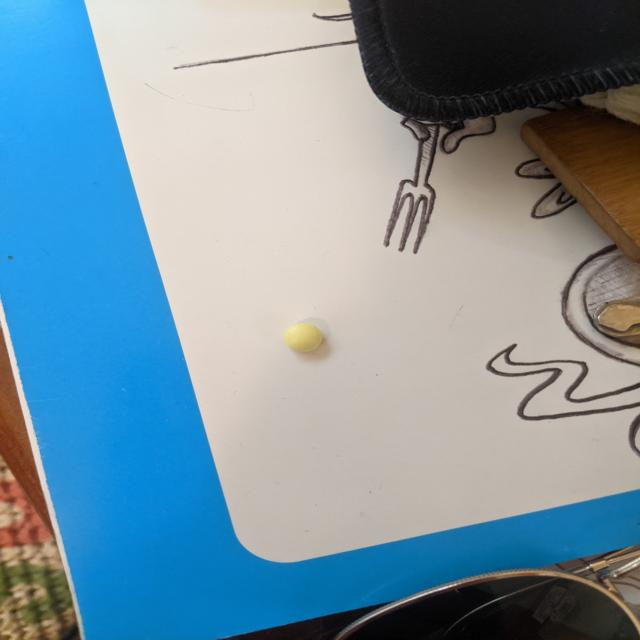non-organic waste: (284, 322, 324, 354)
